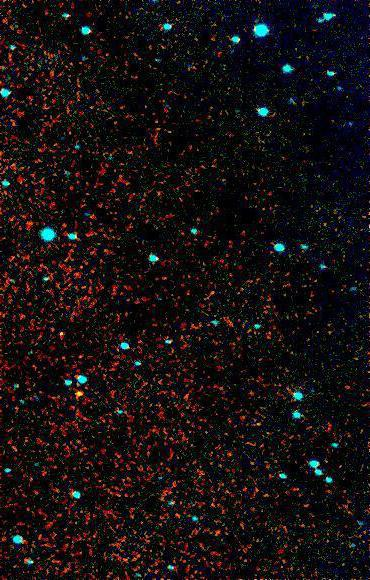star: (64, 379, 94, 409)
